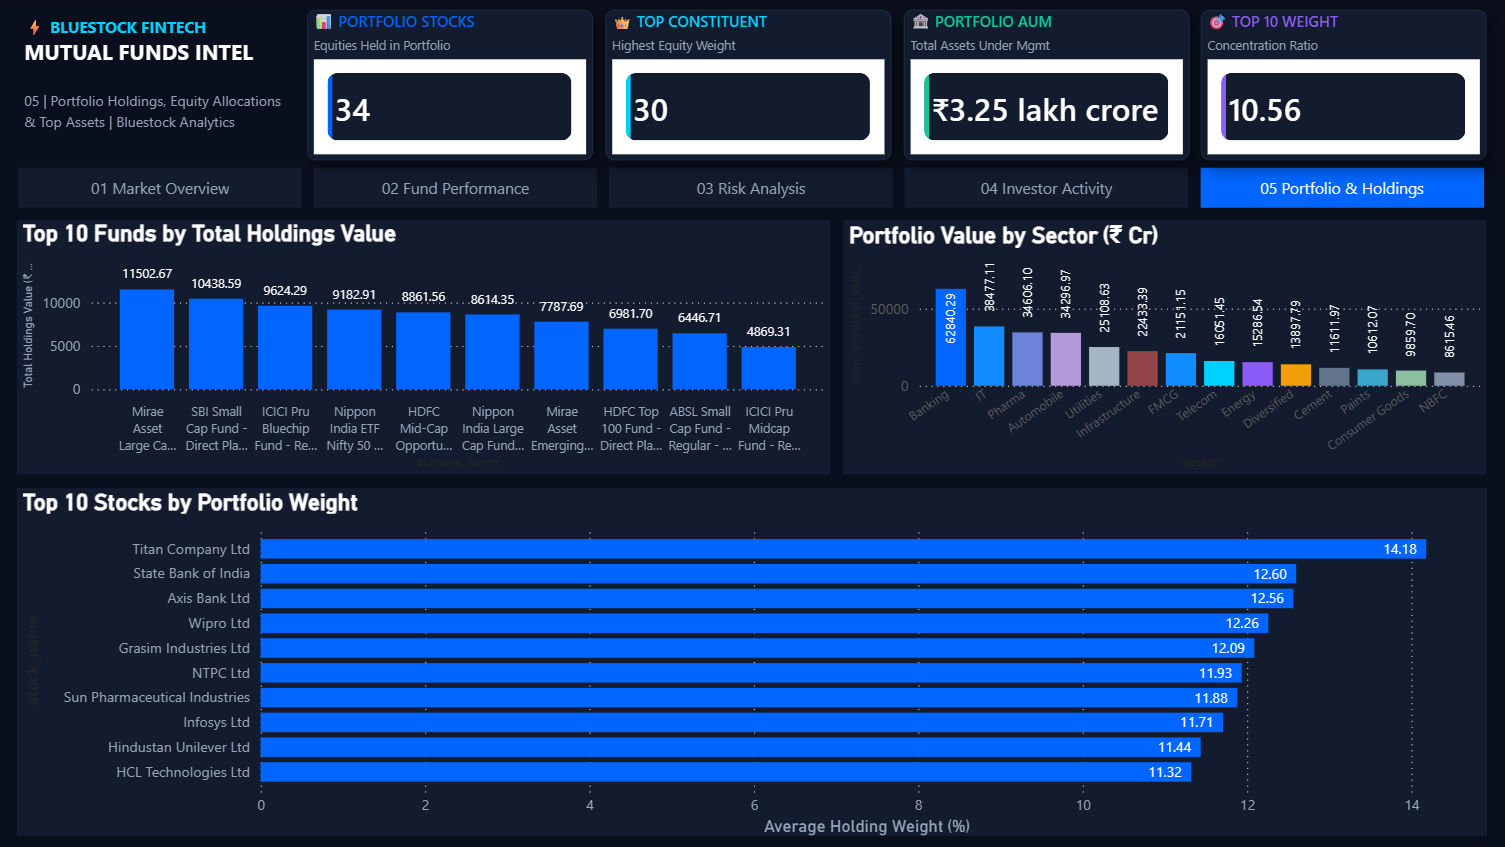

The dashboard page shown, as its layout file describes it:
{"tool":"powerbi","page":{"name":"05 Portfolio & Holdings","canvas":[1280,720],"ordinal":4},"visuals":[{"type":"textbox","box":[16,8,234,60],"z":0},{"type":"textbox","box":[16,70,234,64],"z":1000},{"type":"pageNavigator","box":[16,142,1248,34],"z":2000},{"type":"cardVisual","title":"📊 PORTFOLIO STOCKS","fields":{"Data":["Count(reporting vw_portfolio_holdings.amfi_code)"]},"box":[262,8,243,128],"z":3000},{"type":"cardVisual","title":"👑 TOP CONSTITUENT","fields":{"Data":["Count(reporting vw_portfolio_holdings.stock_symbol)"]},"box":[515,8,243,128],"z":4000},{"type":"cardVisual","title":"🏦 PORTFOLIO AUM","fields":{"Data":["analytics monthly_sip_inflows.Total Holdings Value Display"]},"box":[768,8,243,128],"z":5000},{"type":"cardVisual","title":"🎯 TOP 10 WEIGHT","fields":{"Data":["Avg(reporting vw_portfolio_holdings.weight_pct)"]},"box":[1021,8,243,128],"z":7000},{"type":"clusteredColumnChart","title":"Portfolio Value by Sector (₹ Cr)","fields":{"Category":["reporting vw_portfolio_holdings.sector"],"Y":["Sum(reporting vw_portfolio_holdings.market_value_cr)"]},"box":[716.8,186.3,546,216.1],"z":8000},{"type":"clusteredColumnChart","title":"Top 10 Funds by Total Holdings Value","fields":{"Category":["reporting vw_portfolio_holdings.scheme_name"],"Y":["Sum(reporting vw_portfolio_holdings.market_value_cr)"]},"box":[15.5,186.3,690.9,216.1],"z":9000},{"type":"barChart","title":"Top 10 Stocks by Portfolio Weight","fields":{"Category":["reporting vw_portfolio_holdings.stock_name"],"Y":["Avg(reporting vw_portfolio_holdings.weight_pct)"]},"box":[15.5,414.1,1248.6,295],"z":9500}]}

Visuals, with their boxes in screenshot pixels (x1, y1, x2, y2), scaled from the page's 1280x720 canvas onto the 1505x847 screenshot:
textbox: [x1=19, y1=9, x2=294, y2=80]
textbox: [x1=19, y1=82, x2=294, y2=158]
pageNavigator: [x1=19, y1=167, x2=1486, y2=207]
"📊 PORTFOLIO STOCKS" cardVisual: [x1=308, y1=9, x2=594, y2=160]
"👑 TOP CONSTITUENT" cardVisual: [x1=606, y1=9, x2=891, y2=160]
"🏦 PORTFOLIO AUM" cardVisual: [x1=903, y1=9, x2=1189, y2=160]
"🎯 TOP 10 WEIGHT" cardVisual: [x1=1200, y1=9, x2=1486, y2=160]
"Portfolio Value by Sector (₹ Cr)" clusteredColumnChart: [x1=843, y1=219, x2=1485, y2=473]
"Top 10 Funds by Total Holdings Value" clusteredColumnChart: [x1=18, y1=219, x2=831, y2=473]
"Top 10 Stocks by Portfolio Weight" barChart: [x1=18, y1=487, x2=1486, y2=834]
